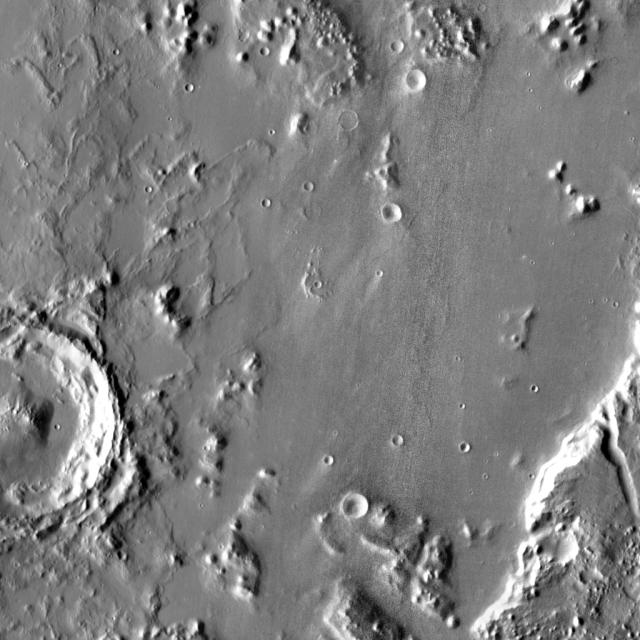crater: (0, 326, 118, 520), (344, 494, 368, 518), (340, 111, 359, 130), (384, 206, 404, 224), (410, 72, 428, 88), (240, 33, 251, 44), (395, 43, 405, 53), (326, 456, 336, 466), (462, 444, 472, 454), (395, 437, 404, 447), (479, 6, 488, 15), (119, 553, 128, 562), (306, 183, 315, 191), (263, 46, 271, 54), (264, 198, 272, 206), (187, 86, 194, 95), (526, 378, 533, 386), (140, 182, 146, 188), (199, 440, 205, 446), (504, 515, 510, 521)
